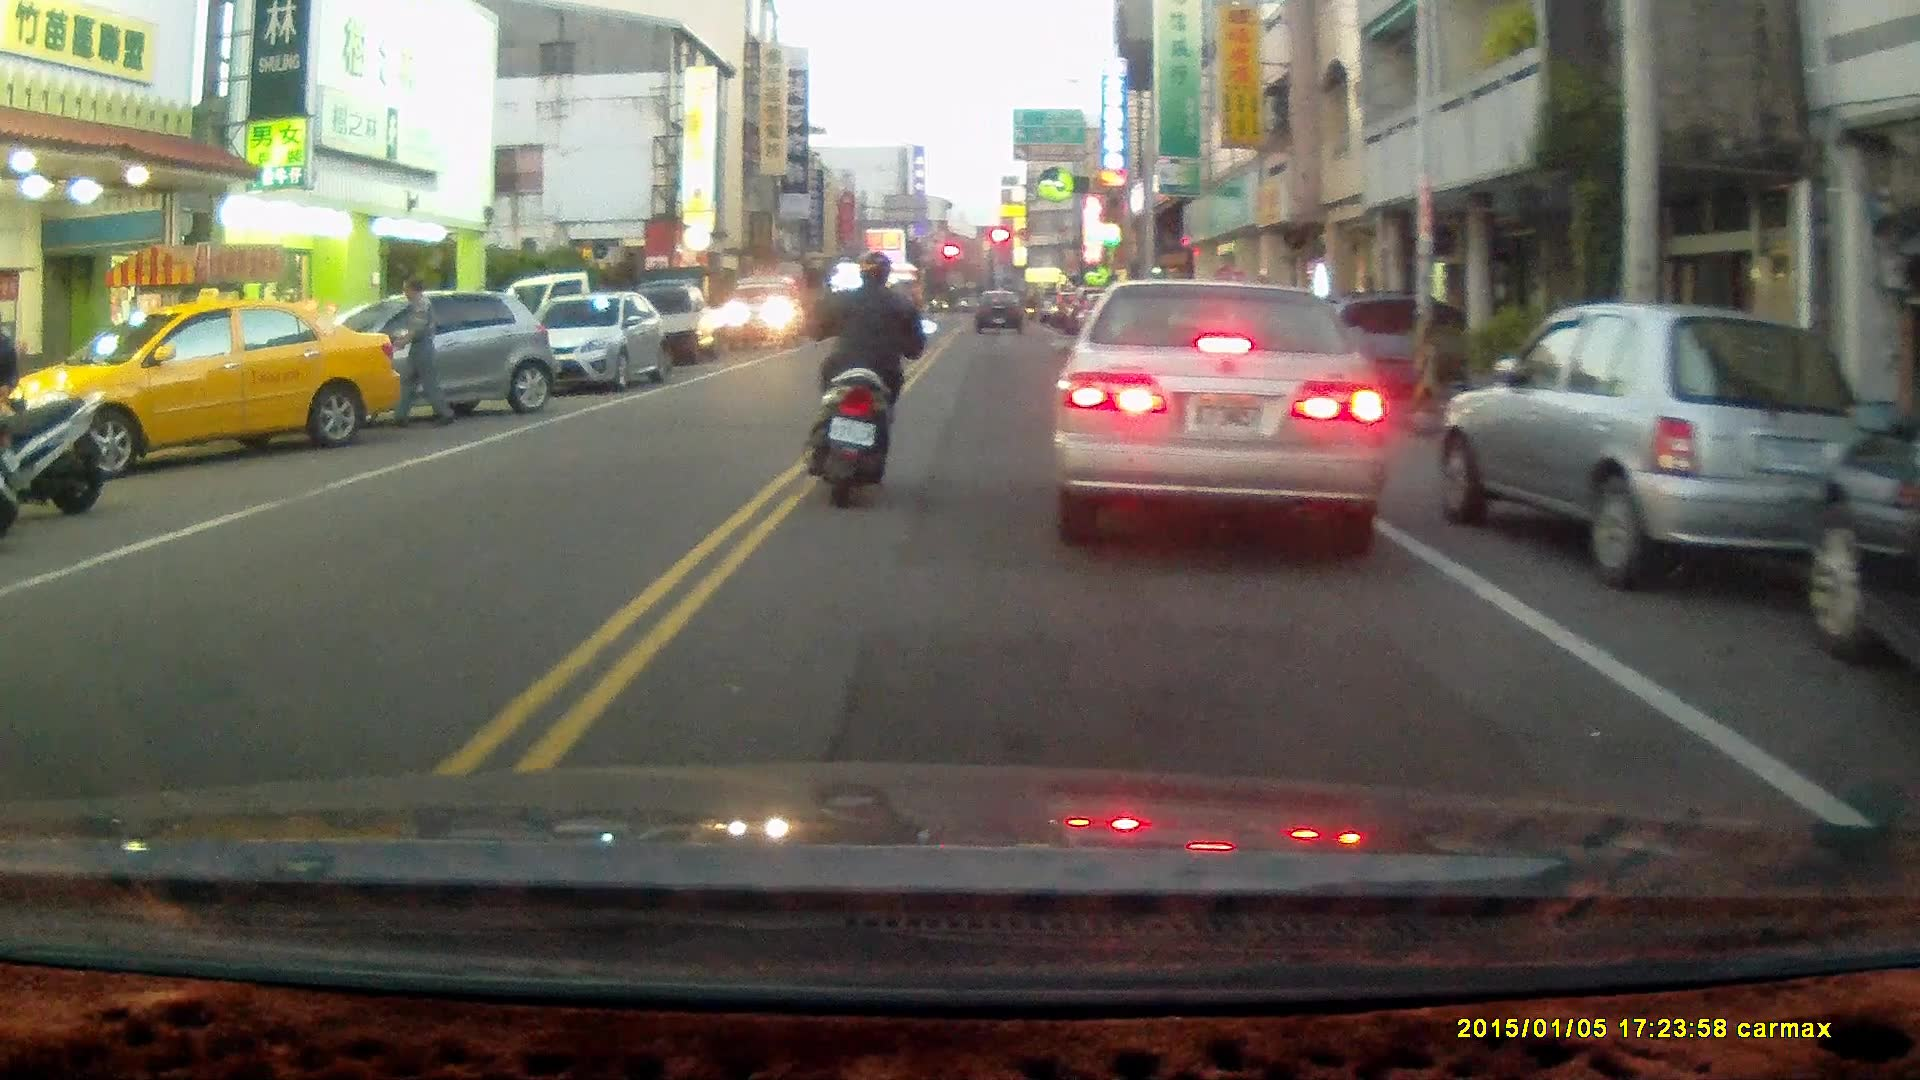pedestrian: (385, 276, 457, 433)
rider: (805, 249, 937, 510)
vehicle: (1440, 301, 1881, 590), (1042, 274, 1393, 545), (2, 301, 405, 485), (1804, 401, 1920, 704), (294, 288, 556, 420), (534, 294, 672, 395), (653, 281, 744, 372), (721, 278, 806, 352)
